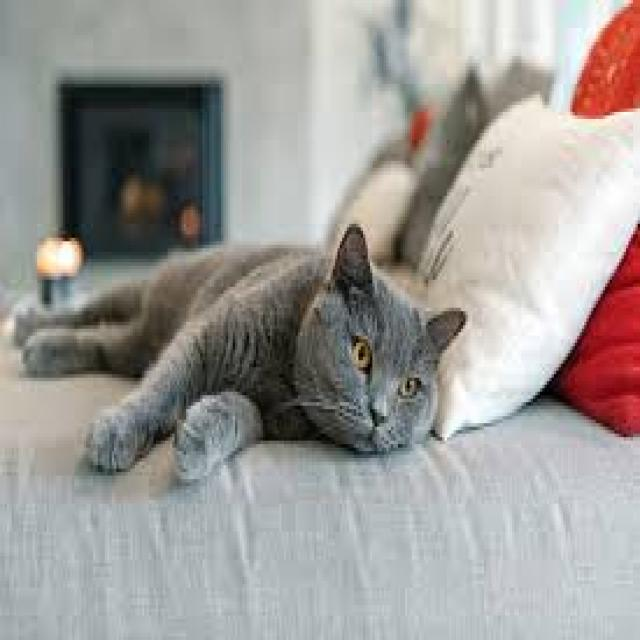Cat: (8, 217, 473, 490)
